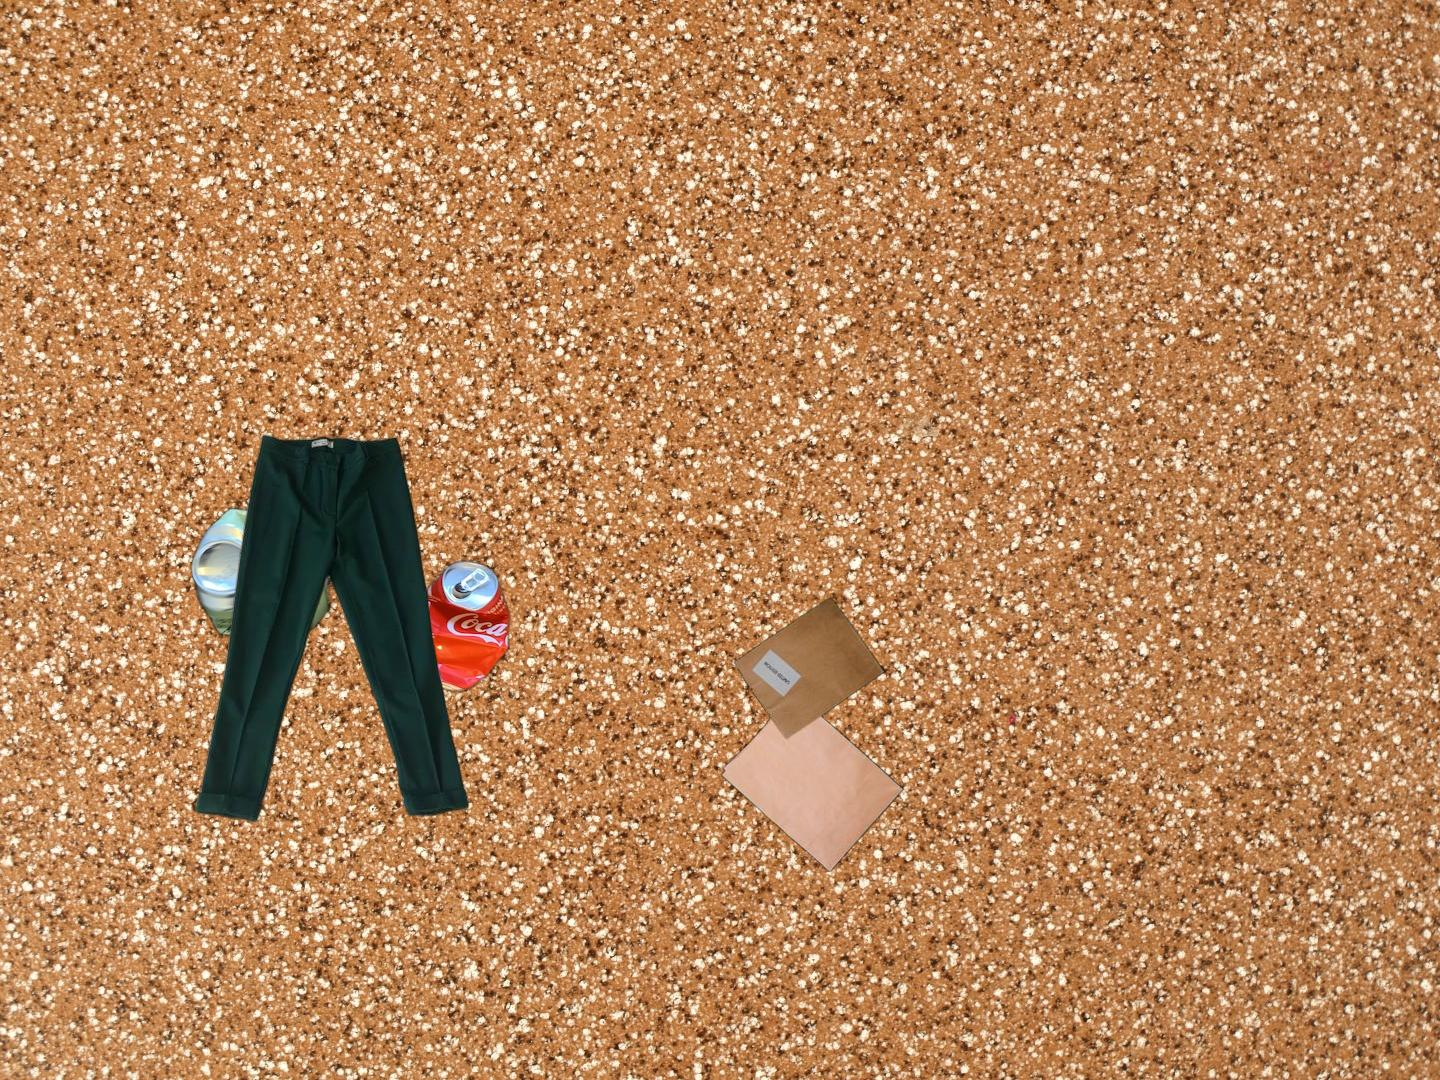clothes: (192, 430, 471, 827)
metal-cans: (187, 503, 341, 648), (407, 555, 515, 697)
paper-bag: (719, 591, 905, 874)
